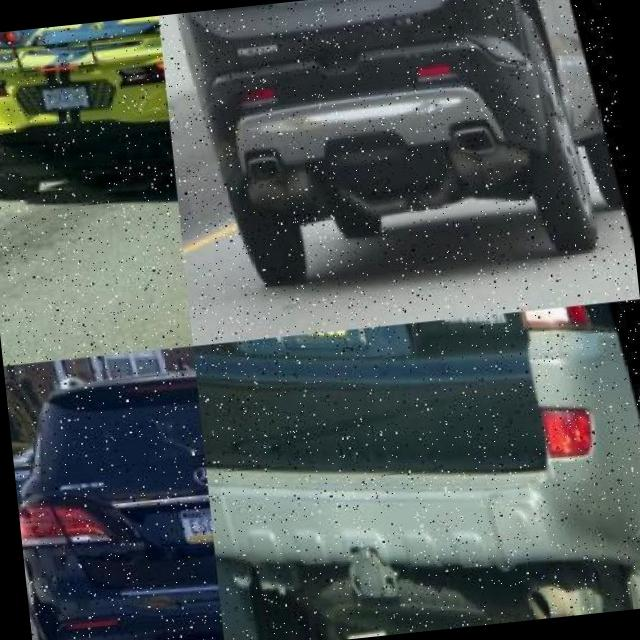LicensePlate: (258, 327, 372, 389), (277, 0, 345, 29), (170, 500, 211, 537), (31, 78, 82, 107)
